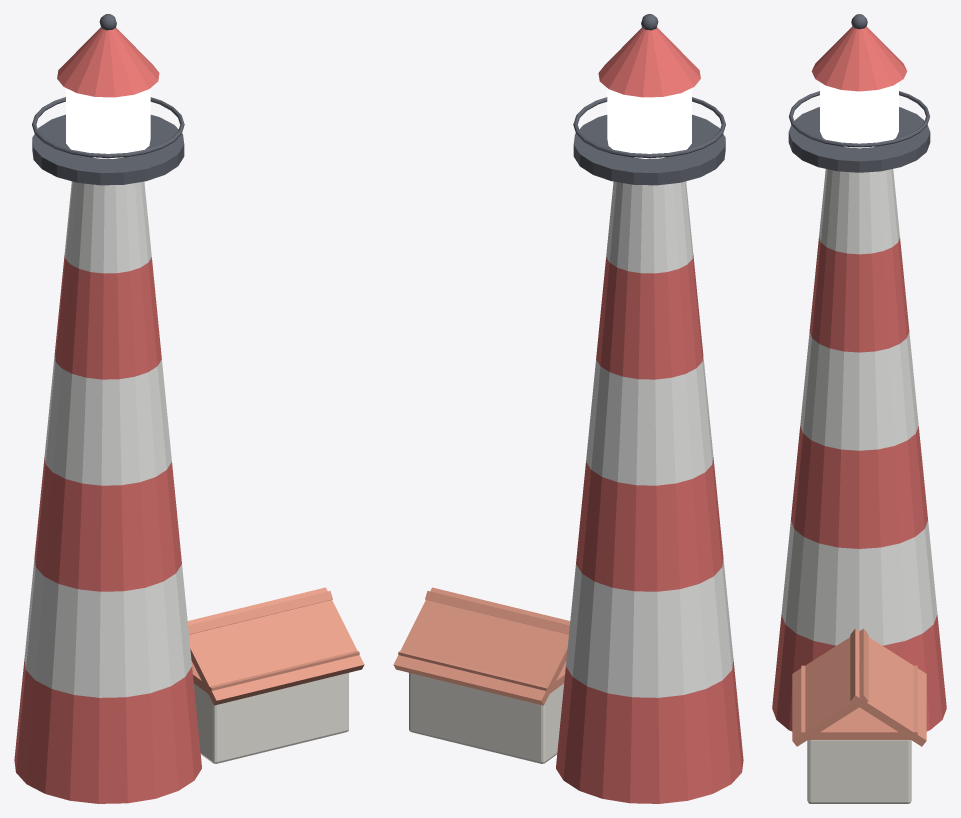
File: lighthouse.glb
The picture shows the model from 3 angles, left to right: view 1: azimuth 30°, elevation 25°; view 2: azimuth 150°, elevation 25°; view 3: azimuth 270°, elevation 25°; orthographic projection. The views are drawn at different scales.
Parts seen in each view (by area): view 1: lighthouse; view 2: lighthouse; view 3: lighthouse.
Boxes of the visible parts, box(x1,y1,x2,y2) form: lighthouse: box(14, 14, 364, 803); lighthouse: box(393, 14, 743, 803); lighthouse: box(772, 14, 946, 803).
Bounding box in the file's own units: 15.5 × 36.8 × 8.4.
